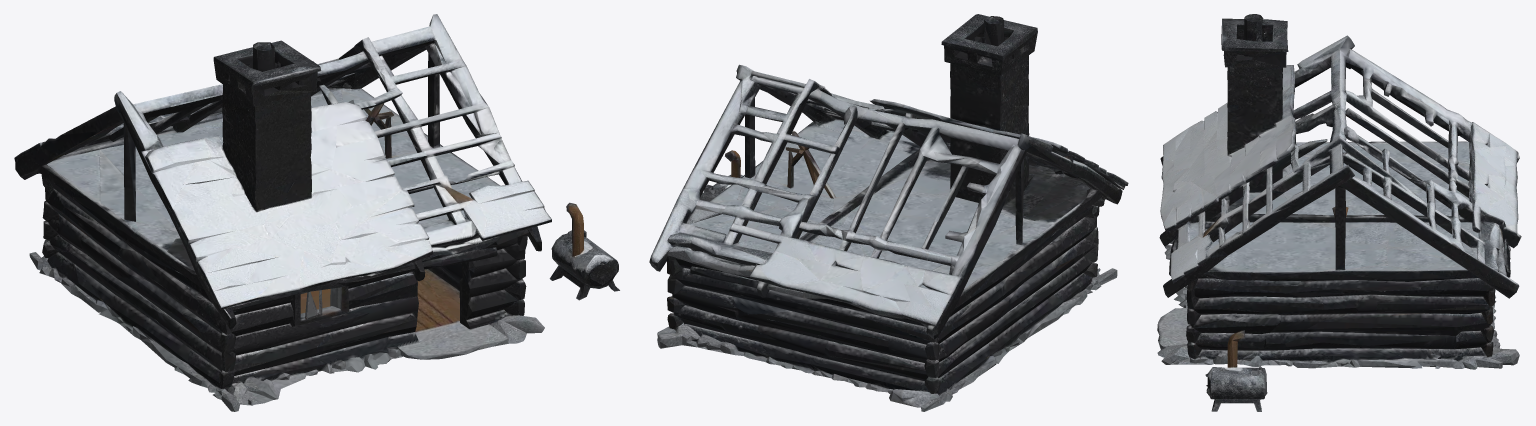
File: ruin.glb
3 views of the same model, side by side, from view 1: azimuth 30°, elevation 25°; view 2: azimuth 150°, elevation 25°; view 3: azimuth 270°, elevation 25° (orthographic). The views are drawn at different scales.
Size of the model in its own units: 1.9 by 1.3 by 1.67.
Materials: 1 (1 with a texture image).
